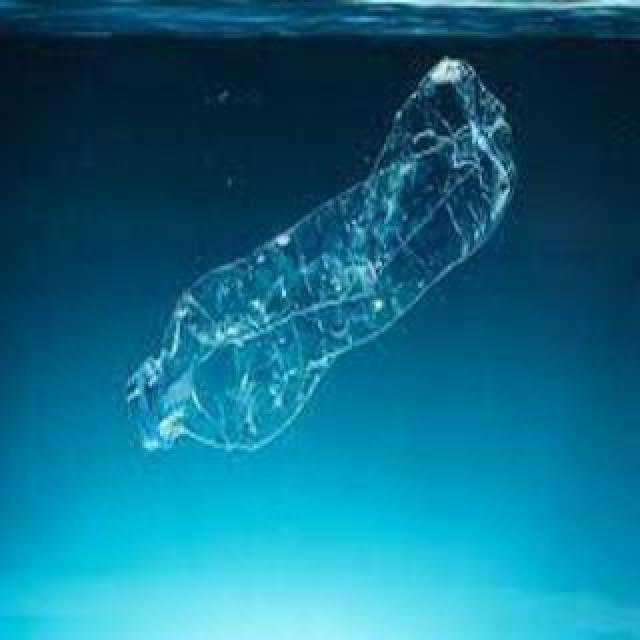Pet_Bottle: (107, 53, 531, 469)
